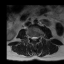CCS_normal: (33, 34, 35, 42)
LFS_normal: (37, 33, 39, 40)
LLS_normal: (35, 34, 37, 42)
RFS_normal: (29, 34, 31, 41)
RLS_normal: (31, 34, 33, 41)
